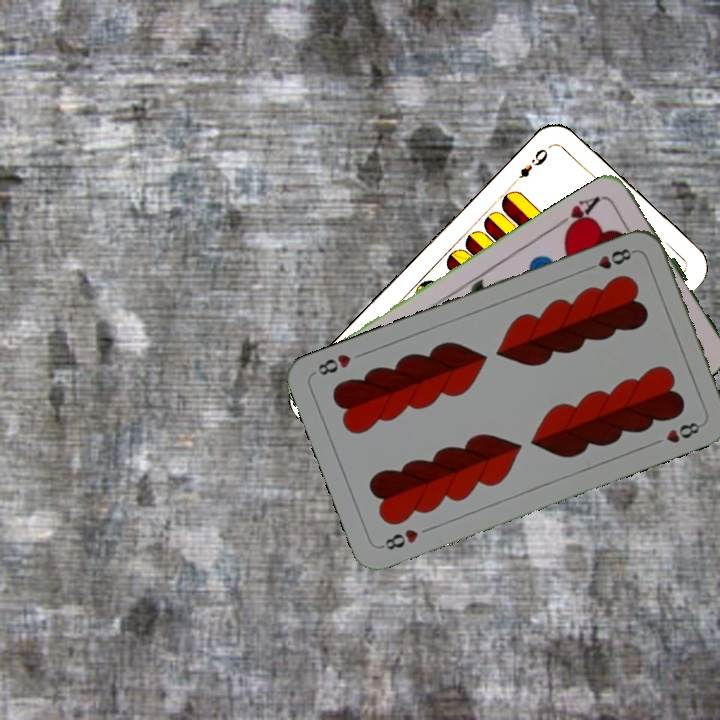E9: (508, 144, 551, 187)
H8: (581, 244, 638, 274), (377, 525, 421, 553)
HA: (553, 192, 607, 238)
